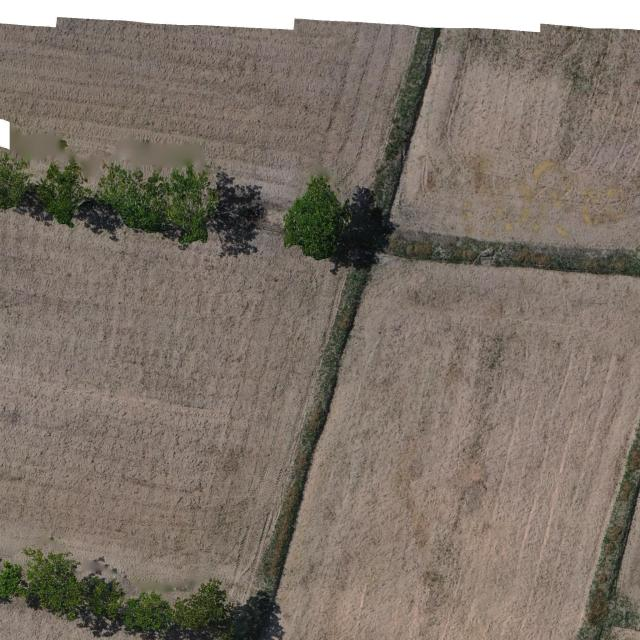Tree: (157, 162, 225, 255), (283, 175, 349, 263), (94, 158, 162, 240), (31, 137, 80, 232), (17, 544, 79, 619), (172, 575, 230, 640), (120, 588, 178, 640), (78, 567, 127, 621), (0, 148, 32, 215)
